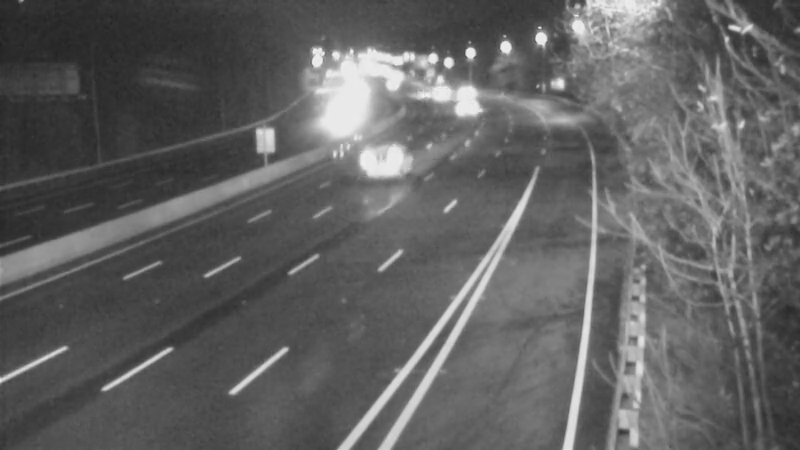vehicle: (363, 111, 443, 191), (366, 61, 416, 111), (419, 66, 469, 116), (394, 71, 444, 121), (443, 70, 493, 120), (439, 87, 489, 137)
